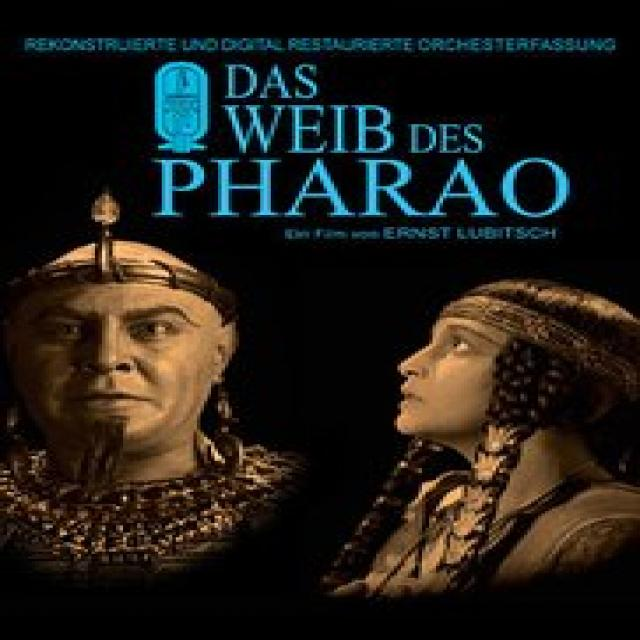movie-judul: (120, 53, 583, 239)
picture: (3, 192, 314, 580), (337, 266, 640, 608)
